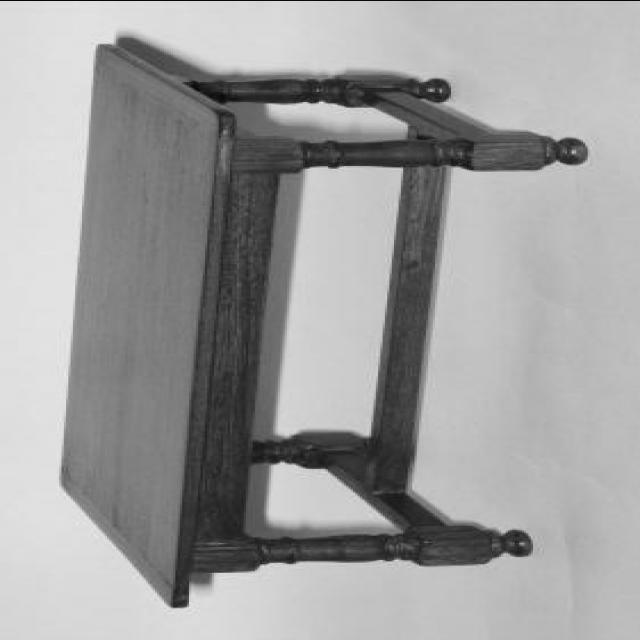table: (55, 43, 584, 608)
